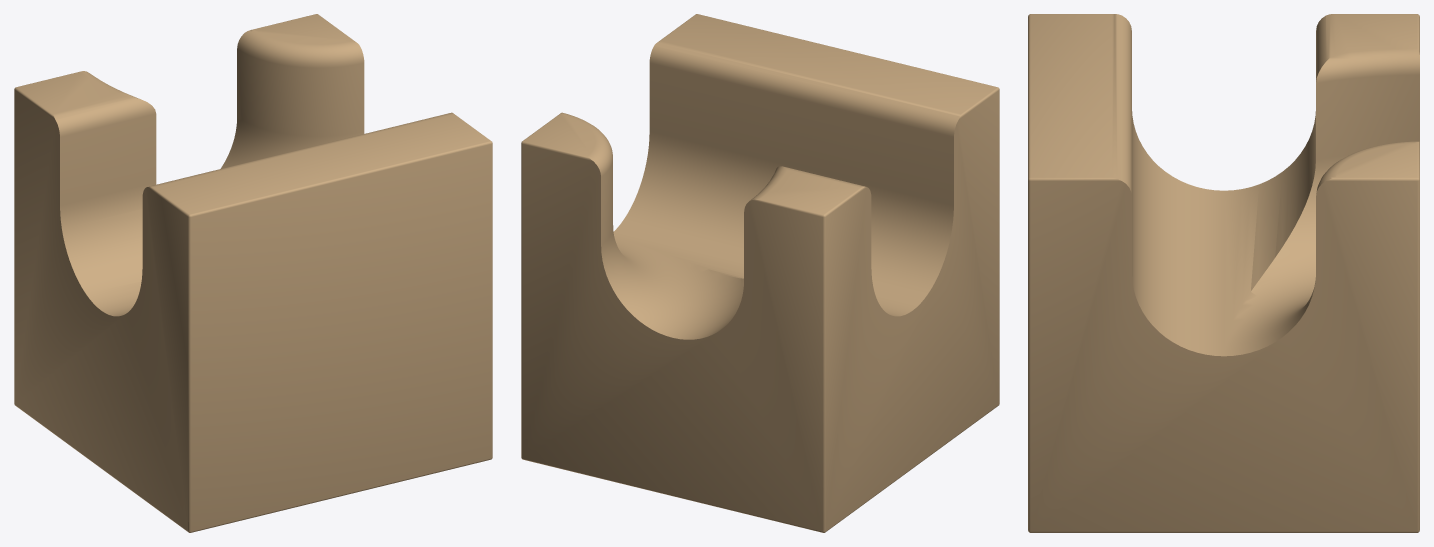
The model's file is blk_join_l2.glb.
3 views of the same model, side by side, from view 1: azimuth 30°, elevation 25°; view 2: azimuth 150°, elevation 25°; view 3: azimuth 270°, elevation 25° (orthographic). The views are drawn at different scales.
Visible parts, largest first — view 1: blk_join_l2_lod0; view 2: blk_join_l2_lod0; view 3: blk_join_l2_lod0.
Boxes of the visible parts, x1,y1,x2,y2 form: blk_join_l2_lod0: (14,14,492,532); blk_join_l2_lod0: (521,14,999,532); blk_join_l2_lod0: (1028,14,1419,532).
Size of what is drawn, in the model's own units: 0.0596 by 0.0596 by 0.0596.
